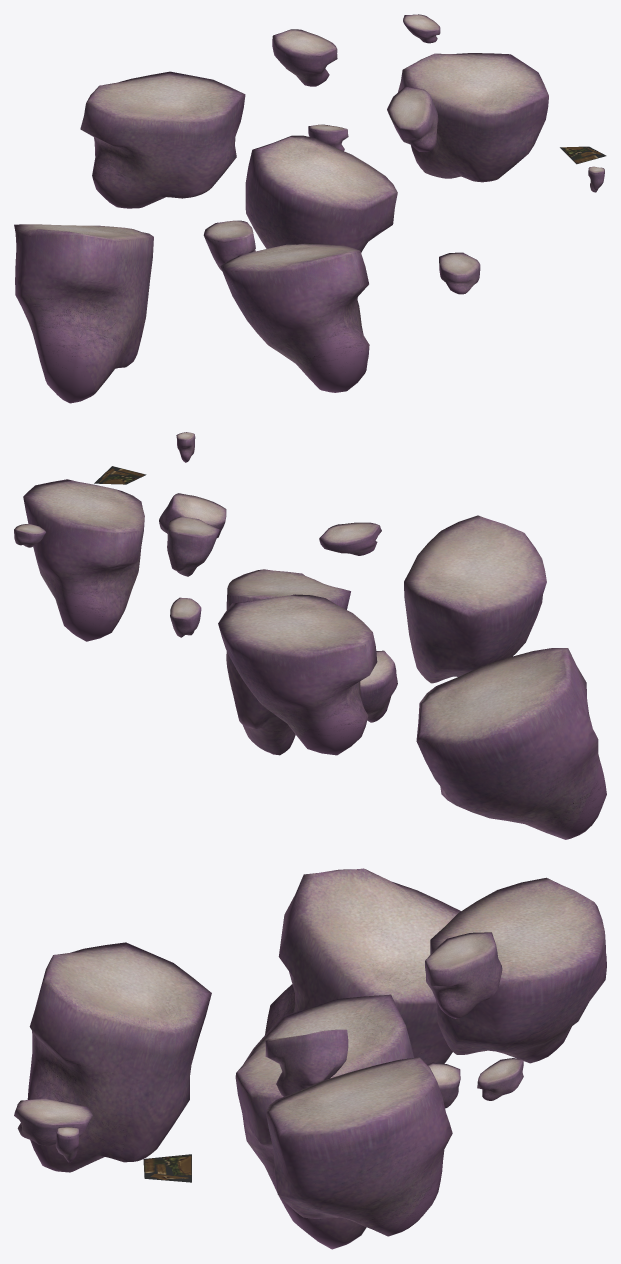
The model's file is Tile67fix.fbx.
The picture shows the model from 3 angles, top to bottom: view 1: azimuth 30°, elevation 25°; view 2: azimuth 150°, elevation 25°; view 3: azimuth 270°, elevation 25°; orthographic projection. The views are drawn at different scales.
Visible parts, largest first — view 1: tile6_s6, tile7_s4, tile6_s4, tile7_s3, tile6_s5, tile7_s6, tile7_s5, tile6_s10, tile6_s9, tile7_s8, tile7_s7; view 2: tile6_s6, tile6_s4, tile7_s4, tile7_s3, tile6_s5, tile7_s6, tile6_s10, tile6_s9, tile7_s5, tile7_s7, tile6_s7, tile7_s8; view 3: tile6_s4, tile7_s3, tile6_s6, tile7_s4, tile6_s5, tile7_s6, tile7_s5, tile6_s9, tile7_s8, tile6_s7, tile7_s7, tile6_s8.
Boxes of the visible parts, left/top/right/bottom form: tile6_s6: left=14, top=224, right=153, bottom=403; tile7_s4: left=80, top=71, right=245, bottom=208; tile6_s4: left=220, top=243, right=369, bottom=392; tile7_s3: left=398, top=53, right=548, bottom=182; tile6_s5: left=245, top=135, right=397, bottom=252; tile7_s6: left=272, top=29, right=337, bottom=86; tile7_s5: left=387, top=86, right=438, bottom=151; tile6_s10: left=203, top=220, right=255, bottom=270; tile6_s9: left=439, top=252, right=480, bottom=294; tile7_s8: left=403, top=14, right=440, bottom=43; tile7_s7: left=308, top=124, right=348, bottom=150; tile6_s6: left=416, top=648, right=606, bottom=839; tile6_s4: left=404, top=515, right=546, bottom=683; tile7_s4: left=218, top=594, right=377, bottom=755; tile7_s3: left=23, top=479, right=144, bottom=641; tile6_s5: left=226, top=569, right=350, bottom=755; tile7_s6: left=167, top=516, right=219, bottom=576; tile6_s10: left=360, top=650, right=397, bottom=722; tile6_s9: left=319, top=522, right=381, bottom=555; tile7_s5: left=159, top=493, right=226, bottom=537; tile7_s7: left=170, top=597, right=201, bottom=637; tile6_s7: left=94, top=466, right=146, bottom=484; tile7_s8: left=14, top=524, right=45, bottom=547; tile6_s4: left=27, top=942, right=211, bottom=1172; tile7_s3: left=266, top=1057, right=452, bottom=1236; tile6_s6: left=265, top=868, right=460, bottom=1064; tile7_s4: left=430, top=877, right=606, bottom=1063; tile6_s5: left=235, top=994, right=413, bottom=1249; tile7_s6: left=425, top=932, right=502, bottom=1018; tile7_s5: left=265, top=1029, right=348, bottom=1096; tile6_s9: left=14, top=1098, right=92, bottom=1145; tile7_s8: left=477, top=1058, right=523, bottom=1100; tile6_s7: left=143, top=1154, right=191, bottom=1182; tile7_s7: left=427, top=1062, right=460, bottom=1108; tile6_s8: left=55, top=1127, right=78, bottom=1162.
Bounding box in the file's own units: 374 × 178 × 273.
